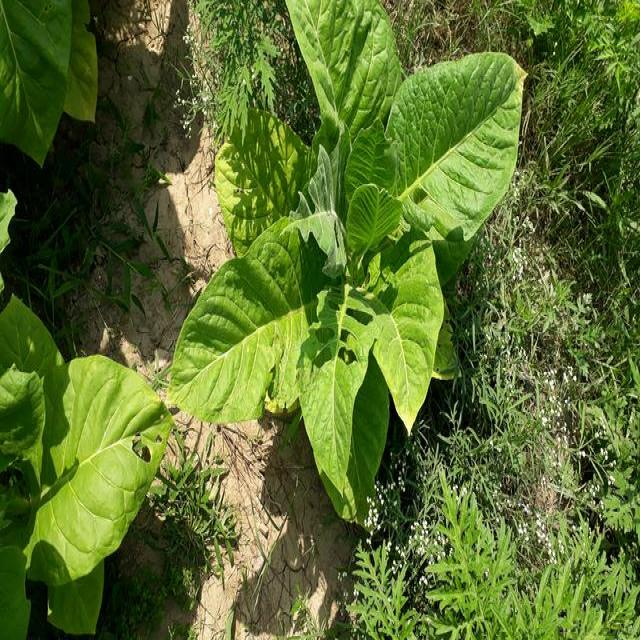crop: (169, 0, 527, 531)
